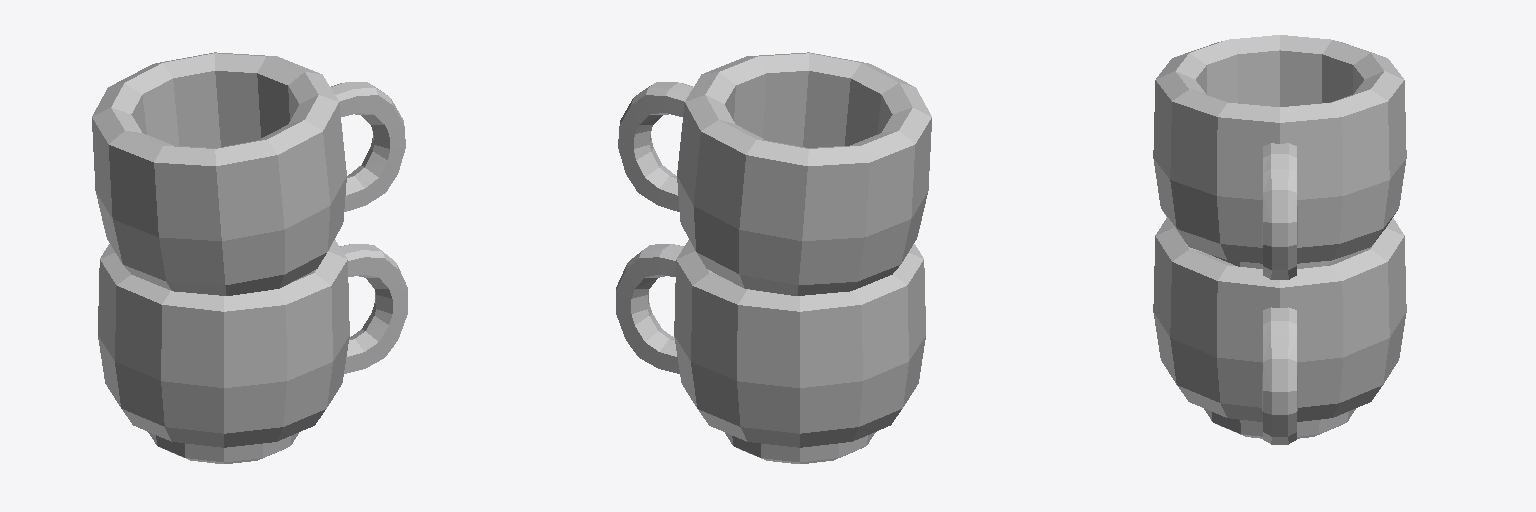
File: mug_B_stacked.obj
The picture shows the model from 3 angles: view 1: azimuth 30°, elevation 25°; view 2: azimuth 150°, elevation 25°; view 3: azimuth 270°, elevation 25°; orthographic projection.
Visible parts, largest first — view 1: mug_B_stacked; view 2: mug_B_stacked; view 3: mug_B_stacked.
Part boxes in pixels (left/top/right/bottom): mug_B_stacked: left=92, top=52, right=407, bottom=463; mug_B_stacked: left=616, top=52, right=931, bottom=463; mug_B_stacked: left=1153, top=35, right=1406, bottom=444.
Bounding box in the file's own units: 0.5667 × 0.6332 × 0.4218.